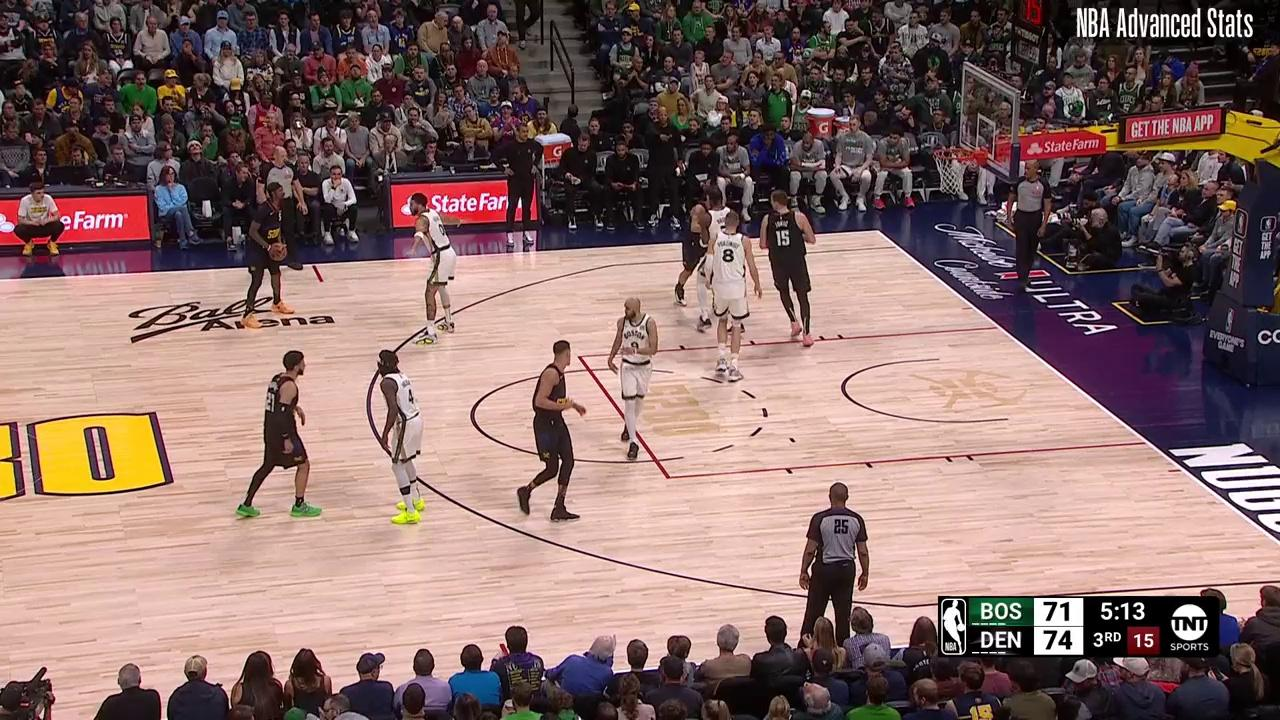3_sx: (889, 241, 905, 254)
b_sx: (870, 225, 886, 238)
free_adx: (660, 472, 677, 485)
free_asx: (572, 350, 587, 365)
free_bdx: (1139, 435, 1155, 449)
free_bsx: (992, 320, 1007, 334)
mid_dx: (497, 639, 507, 648)
mid_sx: (314, 275, 329, 288)
referee: (798, 482, 871, 647), (1004, 160, 1049, 300), (260, 148, 308, 272)
team: (375, 349, 429, 524), (607, 299, 662, 464), (710, 212, 762, 382), (407, 192, 458, 346), (698, 192, 738, 333)
team1: (242, 350, 324, 519), (516, 339, 583, 525), (758, 190, 825, 348), (240, 183, 293, 333), (675, 194, 713, 312)
timer: (1094, 594, 1149, 624)
